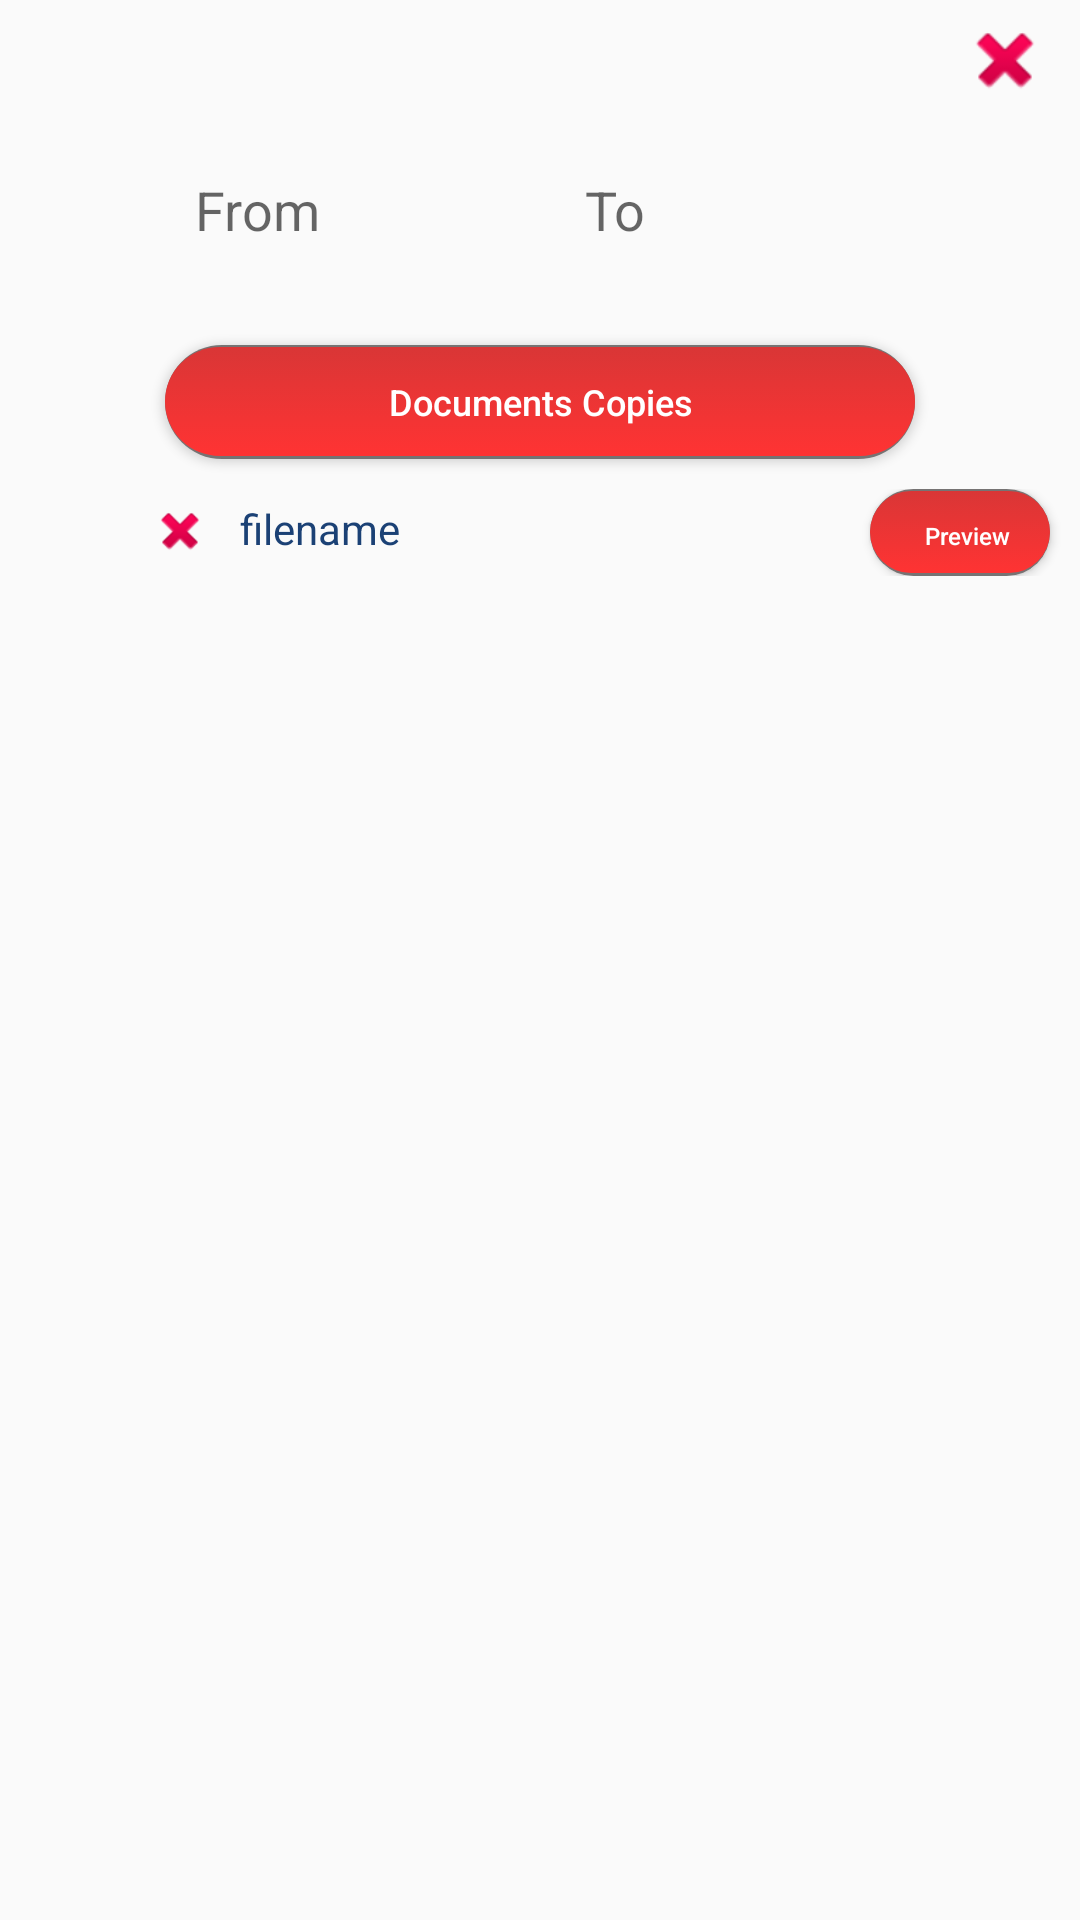

Where to tap for icons on this 1080*1920 app screen, as point (x, y):
delete: point (1005, 60), point (180, 531)
